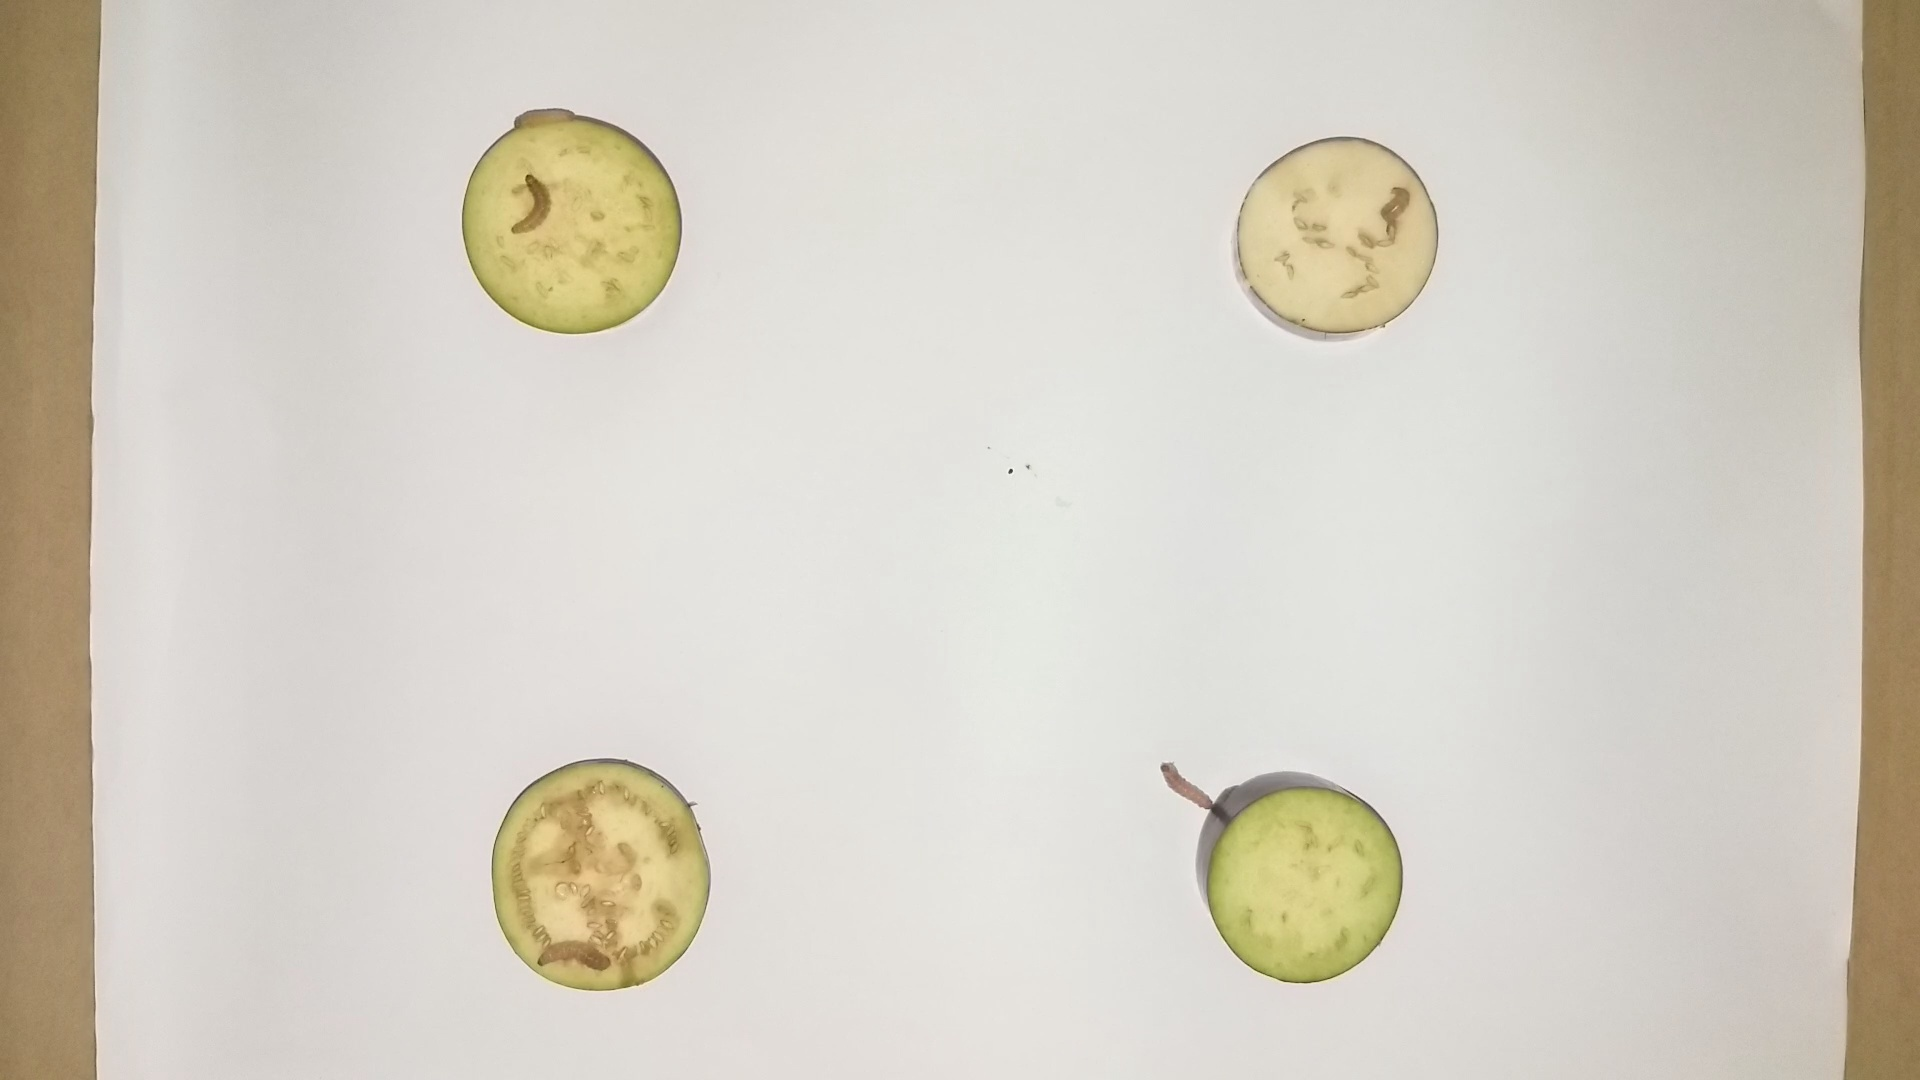efsb: (1149, 750, 1226, 819), (535, 930, 622, 980), (506, 169, 556, 245), (506, 88, 578, 136), (1377, 179, 1422, 231)
eggplant: (483, 746, 723, 1000), (1189, 765, 1416, 997), (458, 105, 683, 339), (1222, 127, 1451, 345)
